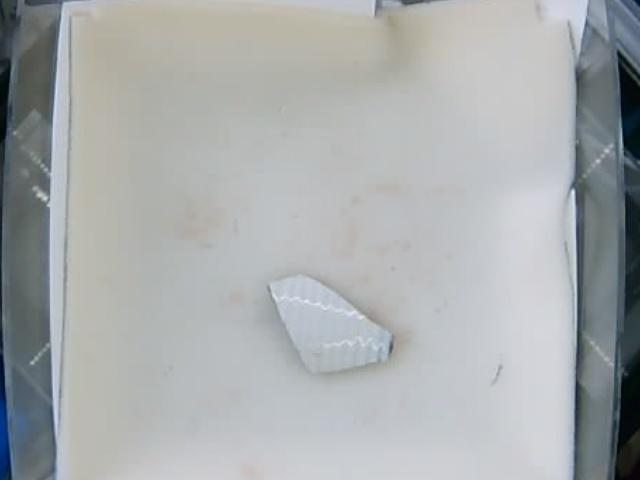China: (270, 273, 394, 376)
